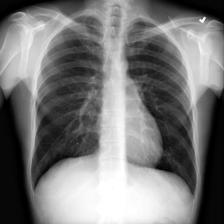normal: (27, 9, 202, 203)
